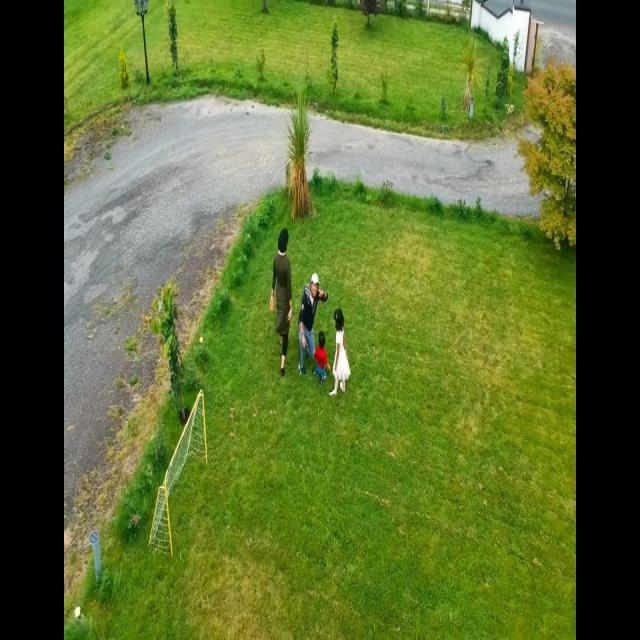humans: (268, 222, 294, 376), (292, 266, 320, 380), (328, 304, 352, 404), (315, 320, 335, 394)
